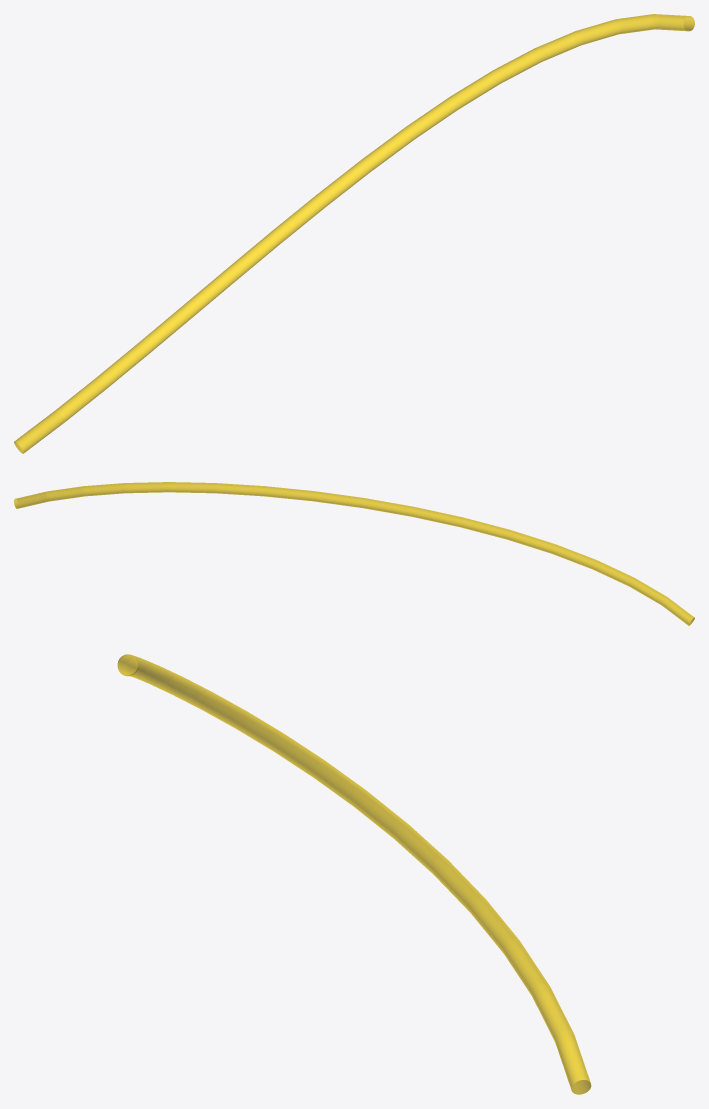
Rendered from Event_100608114_track_72.fbx.
The picture shows the model from 3 angles, top to bottom: view 1: azimuth 30°, elevation 25°; view 2: azimuth 150°, elevation 25°; view 3: azimuth 270°, elevation 25°; orthographic projection. The views are drawn at different scales.
Parts seen in each view (by area): view 1: Model; view 2: Model; view 3: Model.
Boxes of the visible parts, x1=… form: Model: x1=14, y1=14, x2=694, y2=453; Model: x1=14, y1=482, x2=694, y2=625; Model: x1=117, y1=654, x2=591, y2=1094.
Bounding box in the file's own units: 2.53 × 0.4376 × 0.9161.
